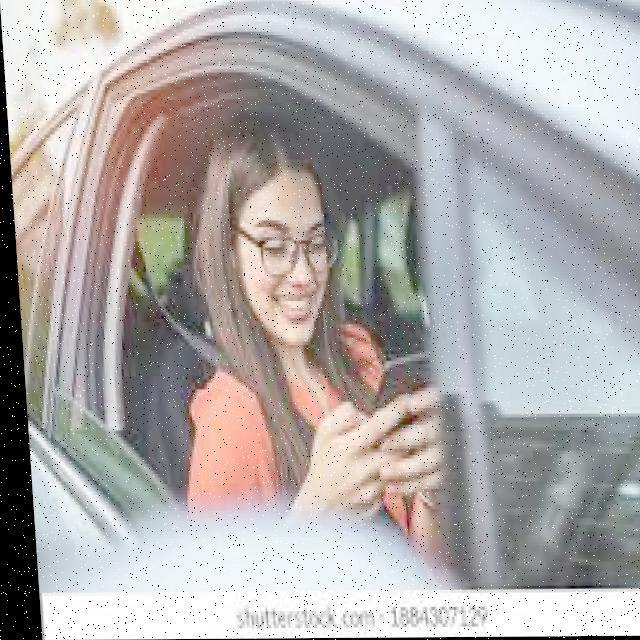seatbelt: (134, 278, 404, 520)
